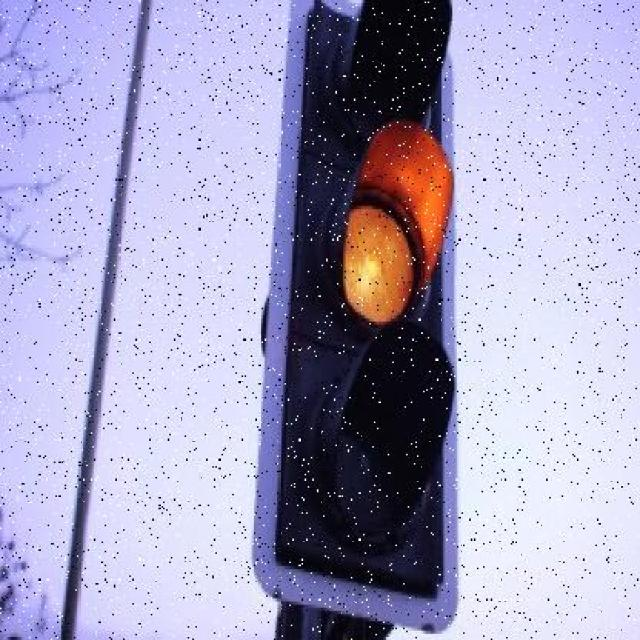yellow-light: (277, 0, 481, 622)
